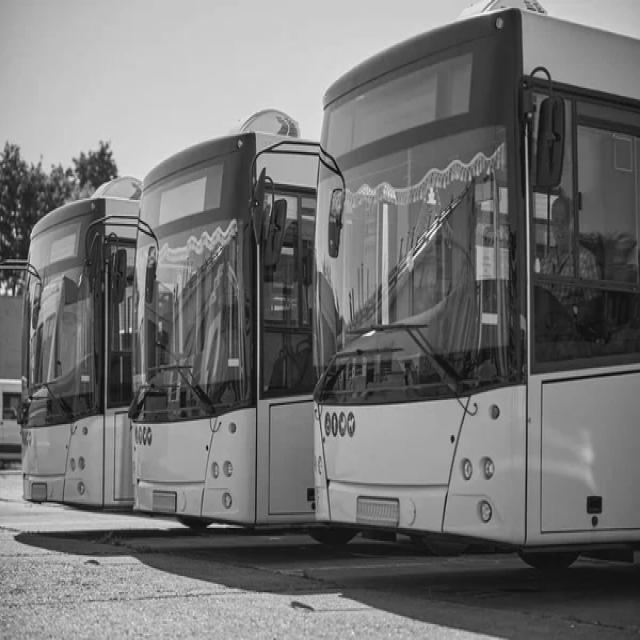Bus: (314, 6, 640, 570), (130, 112, 319, 527), (19, 178, 142, 508)
